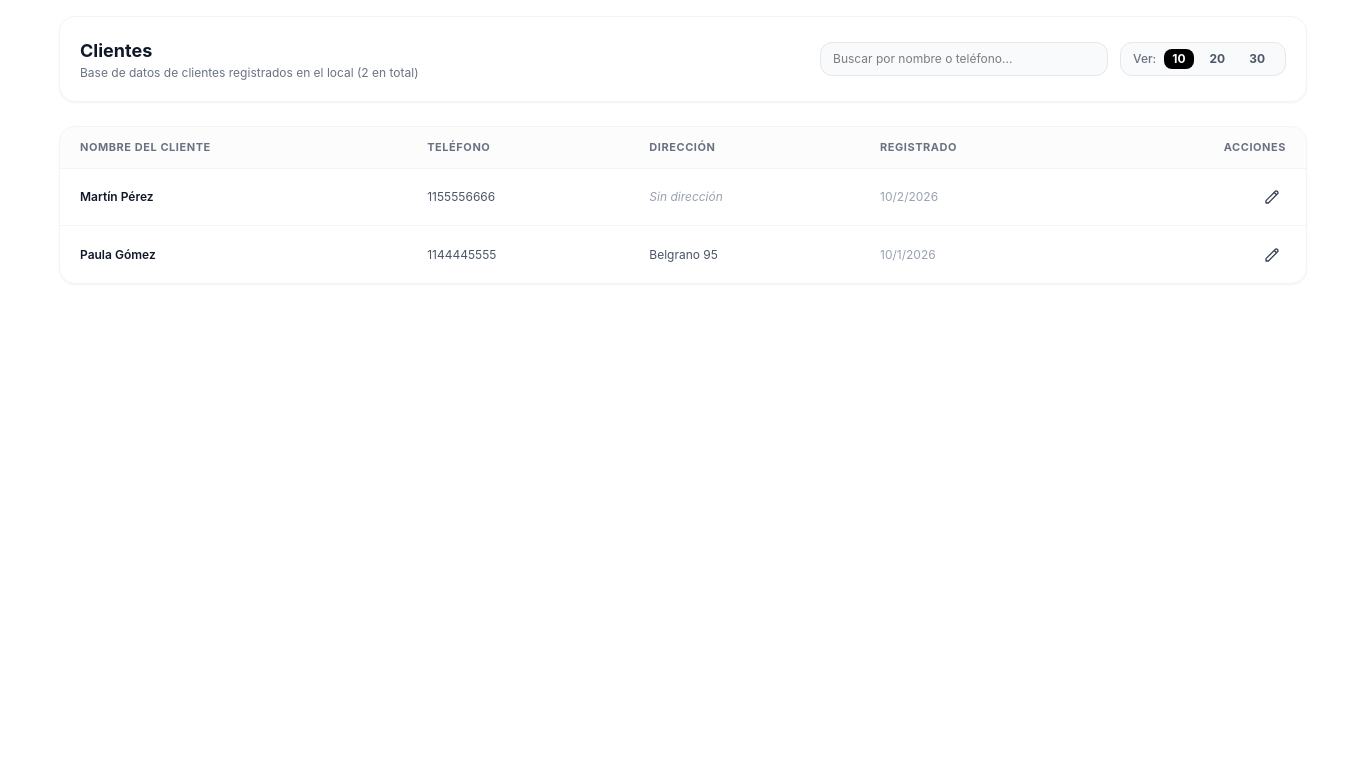
Scenario: ClientesView › edita un cliente, avisa que se guardó y recarga el listado
Expected: the text "Paula Gómez" is shown, [60,226,407,283]
Click the button titled "Editar cliente" in the row of "Paula Gómez": (1272, 255) [1258,240,1286,269]
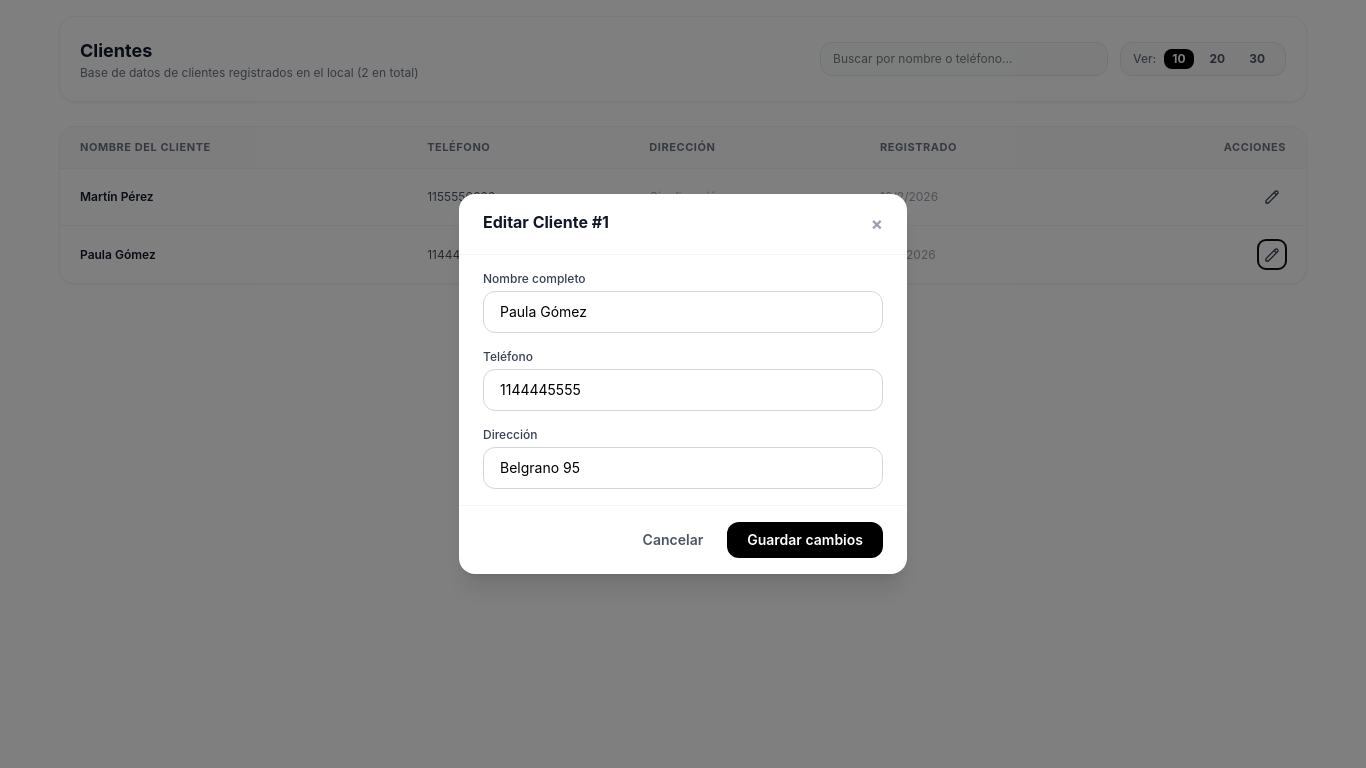
Replace the text in the field with placeholder "Sin dirección" with "Rivadavia 1200": (683, 468) [483,447,883,489]
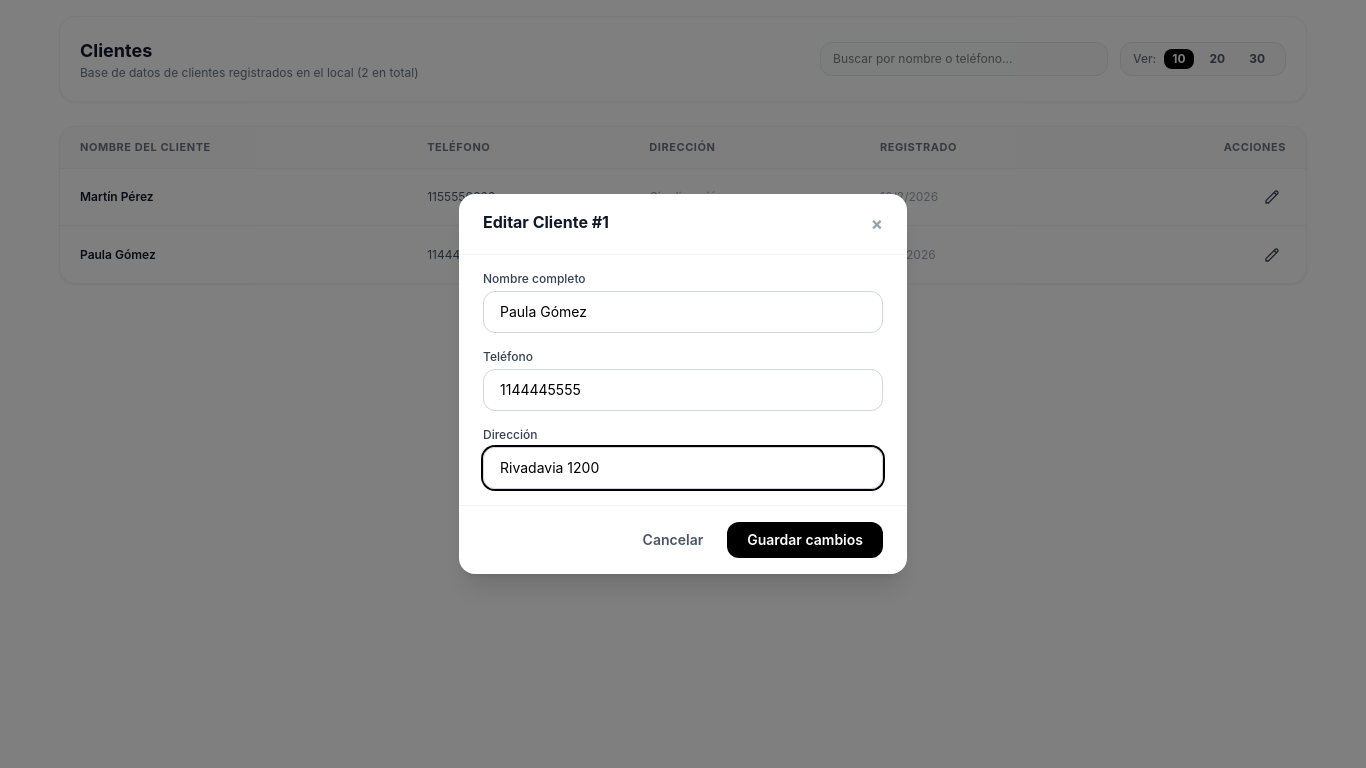
Click the button "Guardar cambios": (805, 540) [727,522,883,558]
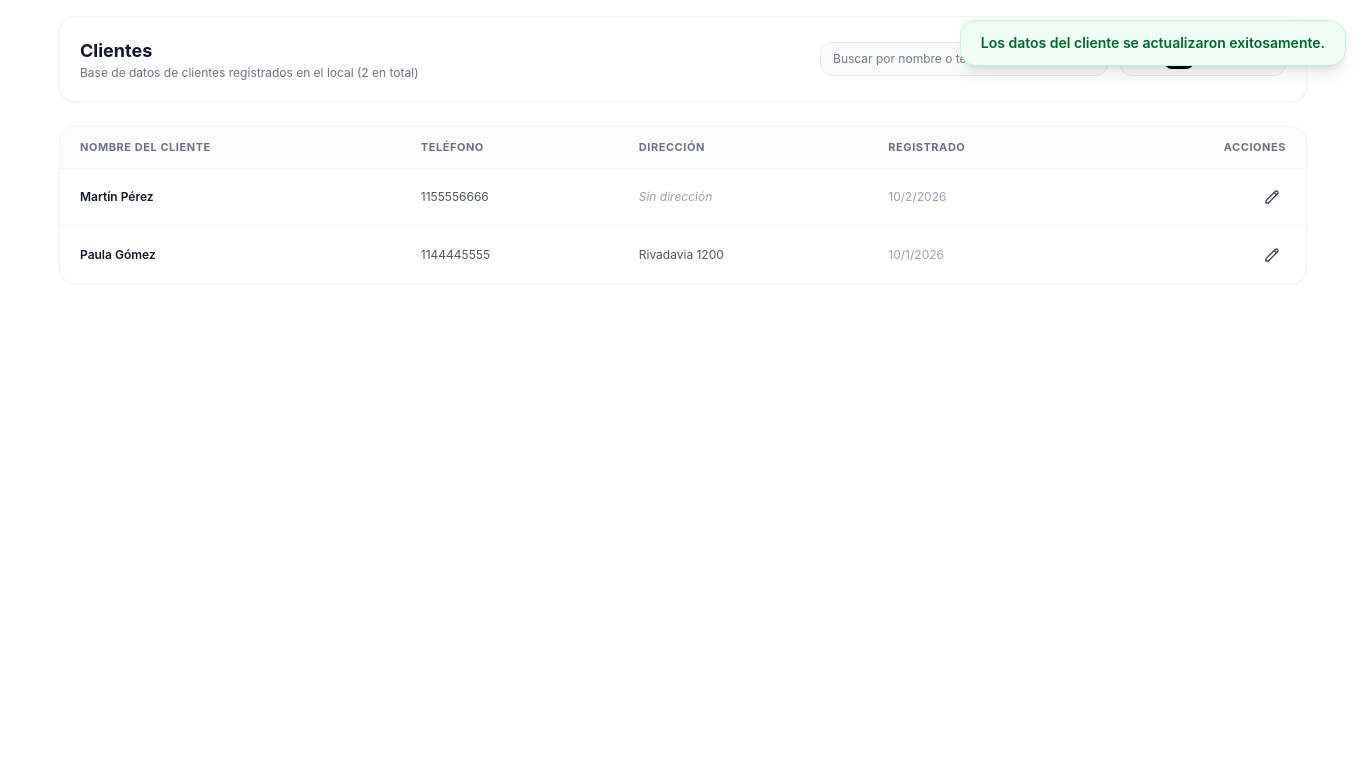
Expected: the text "Los datos del cliente se actualizaron exitosamente." is shown, [960,20,1346,66]
Expected: the text "Rivadavia 1200" is shown, [619,226,868,283]
Expected: the button "Guardar cambios" is gone
